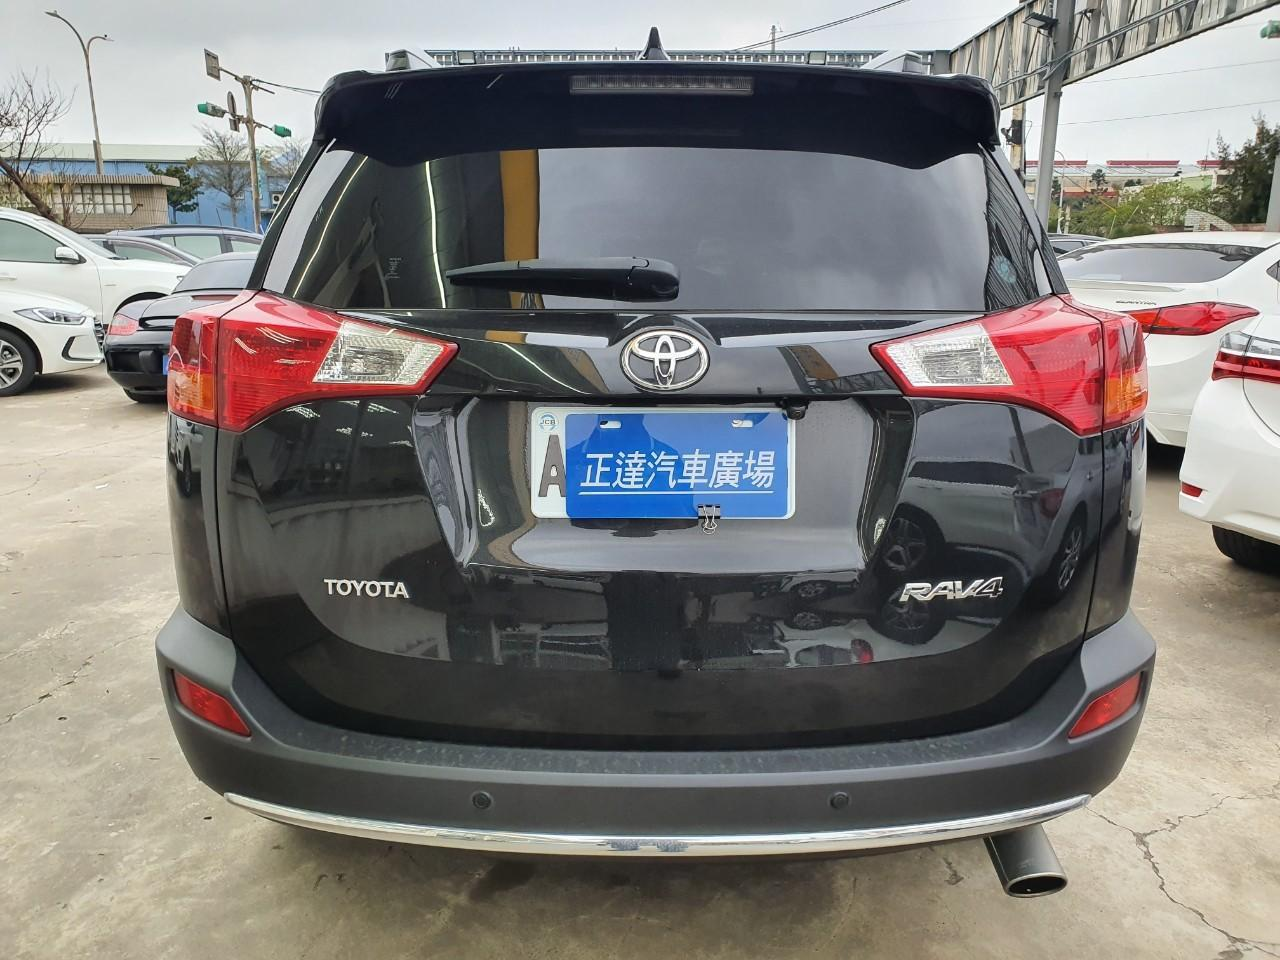toyota_rav4: (161, 62, 1145, 858)
